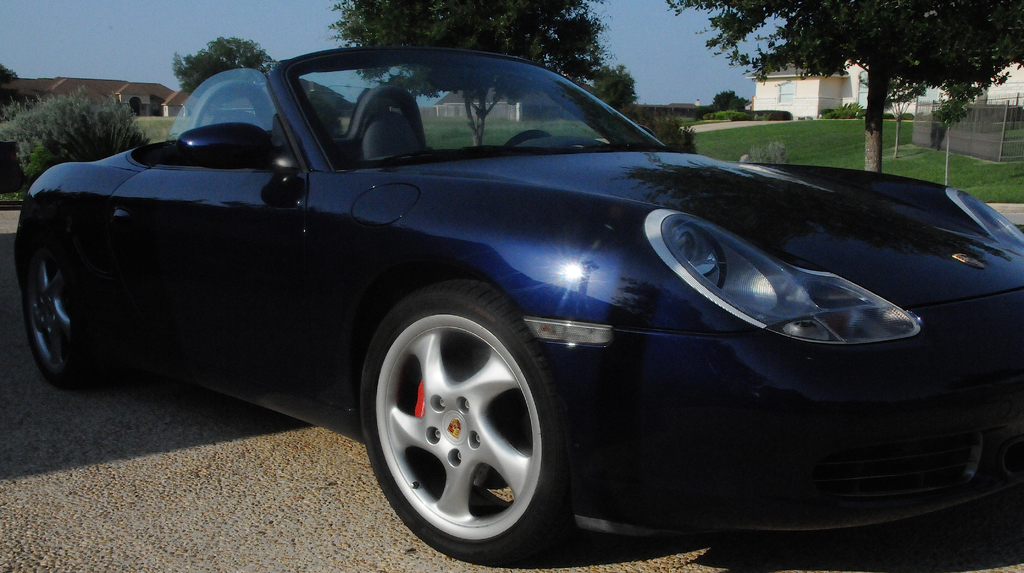Tree: (664, 0, 1024, 176), (325, 0, 617, 146), (173, 33, 278, 105), (590, 63, 637, 113), (713, 85, 750, 111), (0, 63, 21, 107)
